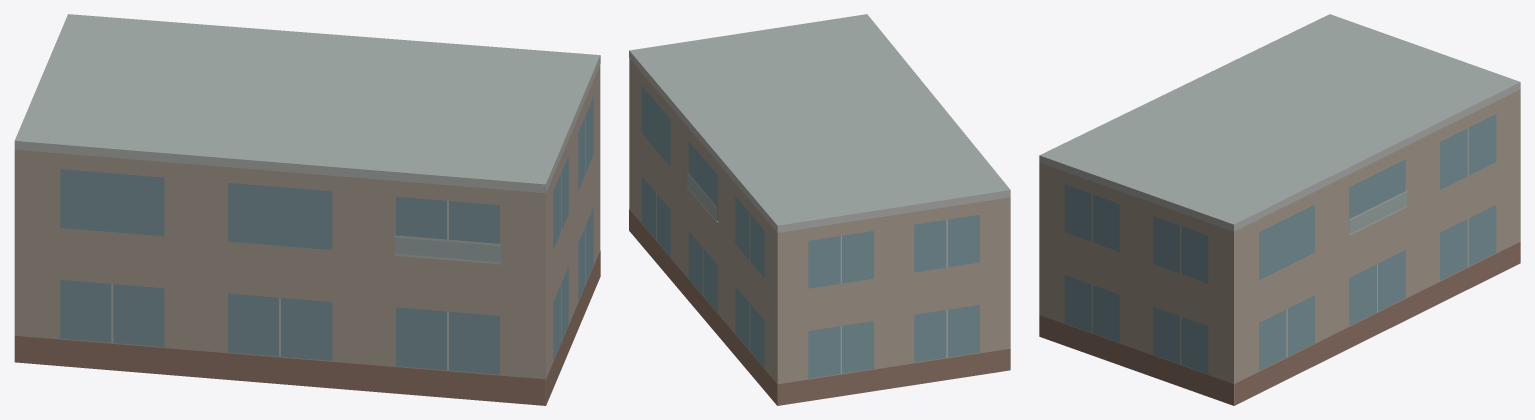
Rendered from survey-upis-32770914.glb.
3 renders of one model, left to right at view 1: azimuth 30°, elevation 25°; view 2: azimuth 150°, elevation 25°; view 3: azimuth 270°, elevation 25°, orthographic. The views are drawn at different scales.
Visible parts, largest first — view 1: survey-upis-32770914.tmp; view 2: survey-upis-32770914.tmp; view 3: survey-upis-32770914.tmp.
Part boxes in pixels (left/top/right/bottom): survey-upis-32770914.tmp: left=14, top=14, right=600, bottom=405; survey-upis-32770914.tmp: left=629, top=14, right=1010, bottom=405; survey-upis-32770914.tmp: left=1039, top=14, right=1520, bottom=405.
Bounding box in the file's own units: 15.21 × 6.1 × 14.69.
